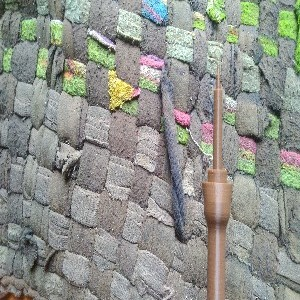solder: (201, 57, 234, 300)
